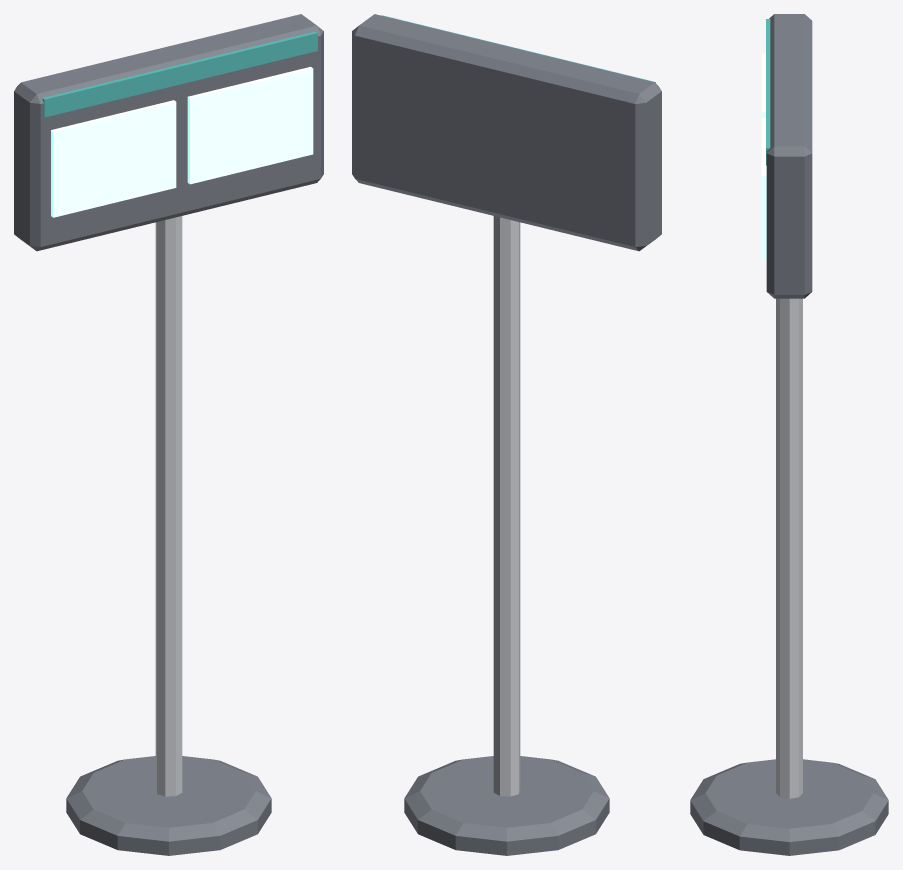
Rendered from medical-23628.glb.
The picture shows the model from 3 angles, left to right: view 1: azimuth 30°, elevation 25°; view 2: azimuth 150°, elevation 25°; view 3: azimuth 270°, elevation 25°; orthographic projection. The views are drawn at different scales.
Parts seen in each view (by area): view 1: queue-display; view 2: queue-display; view 3: queue-display.
Part boxes in pixels (x1,y1,x2,y2): queue-display: (14, 14, 323, 855); queue-display: (352, 14, 661, 855); queue-display: (690, 14, 888, 855).
Bounding box in the file's own units: 0.86 × 2.12 × 0.5199.
